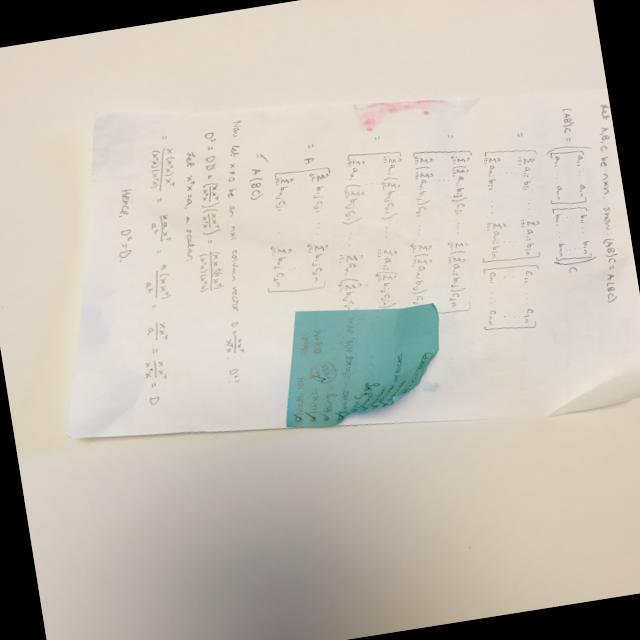Paper: (16, 31, 640, 494)
